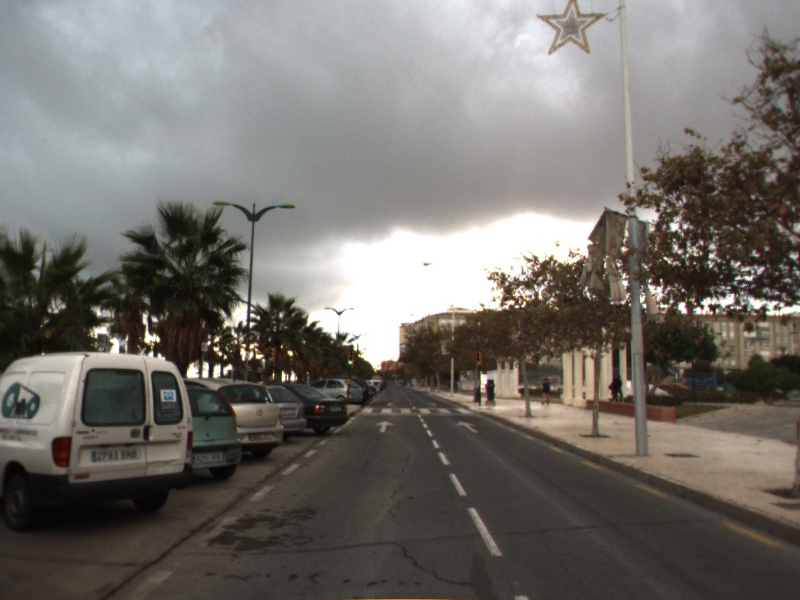STRAIGHT: (454, 419, 481, 435), (374, 419, 396, 434)
